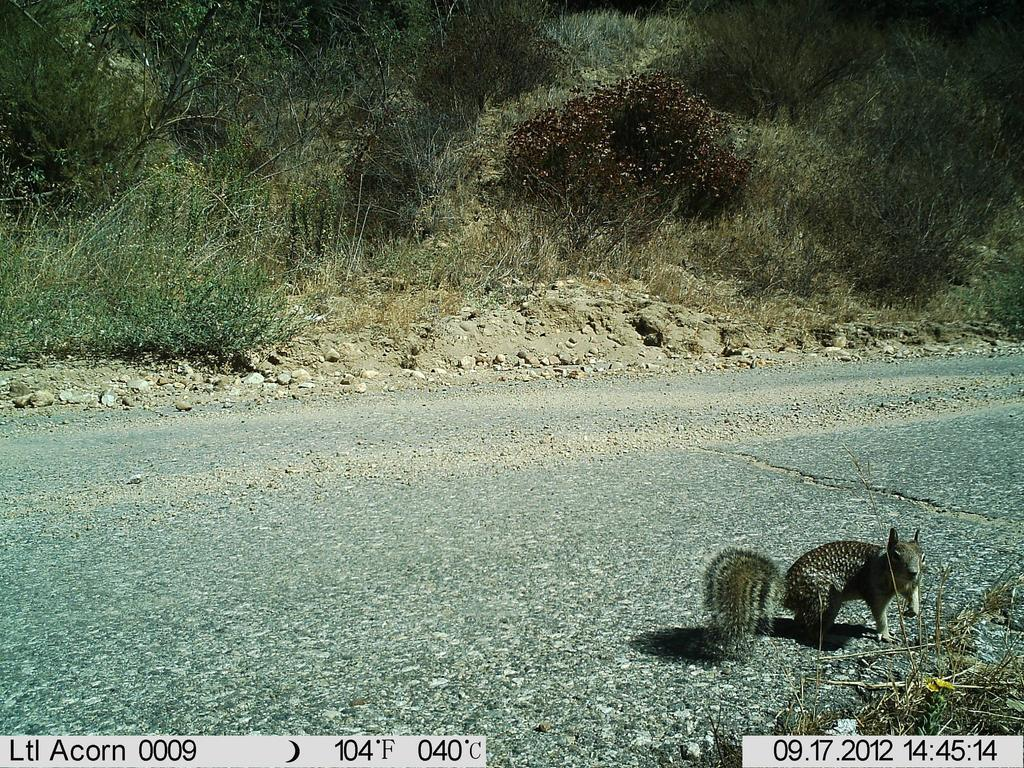squirrel: (688, 507, 987, 683)
